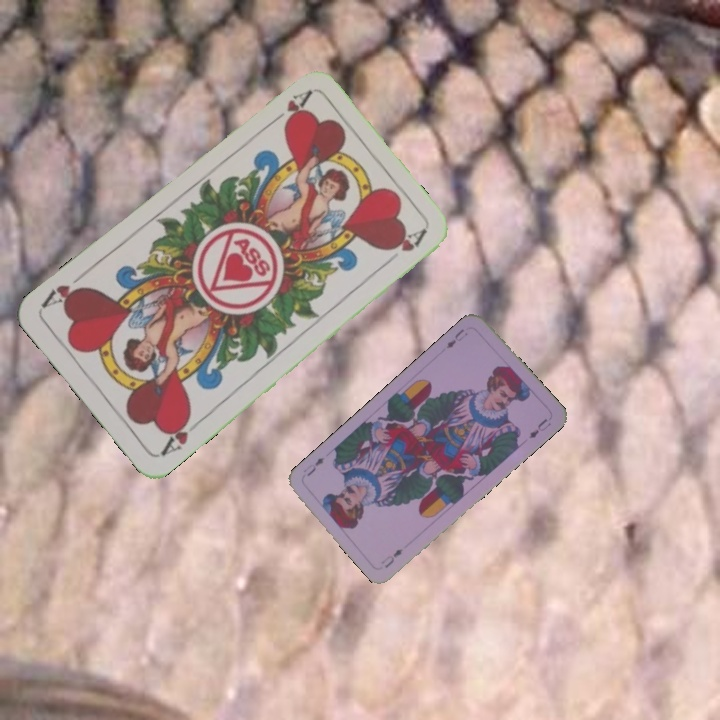EU: (377, 544, 406, 571), (442, 325, 470, 351)
HA: (156, 410, 205, 459), (263, 87, 314, 129)
